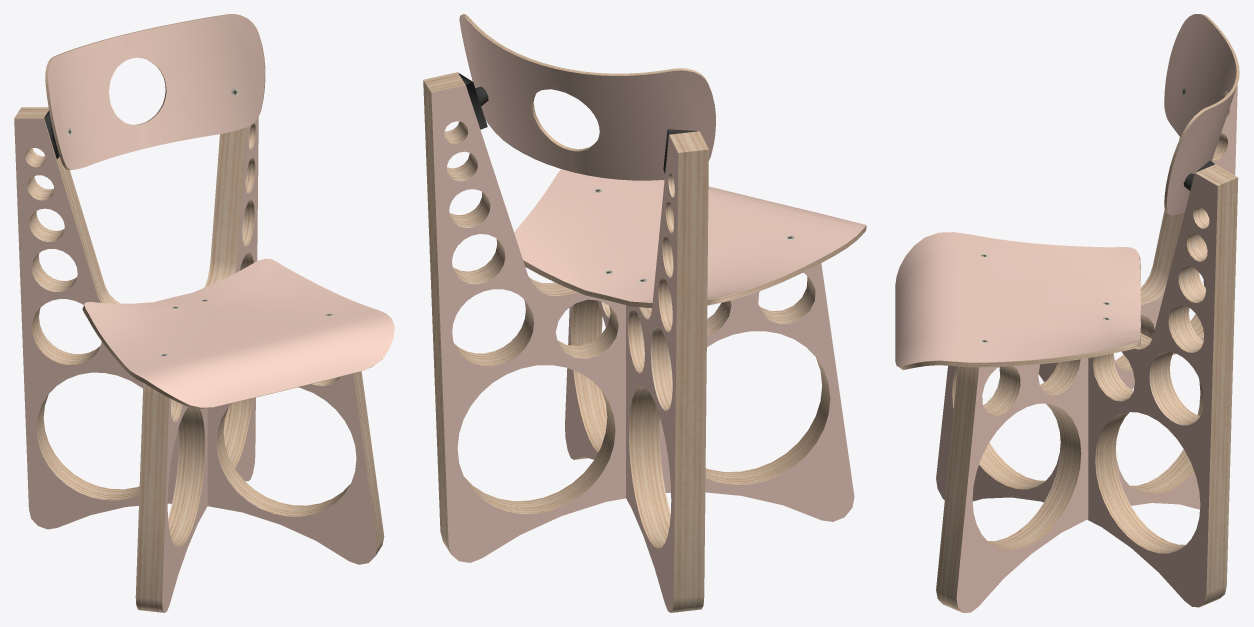
The model's file is 11_Shop Chair_Pink.glb.
3 renders of one model, left to right at view 1: azimuth 30°, elevation 25°; view 2: azimuth 150°, elevation 25°; view 3: azimuth 270°, elevation 25°, orthographic. The views are drawn at different scales.
Parts seen in each view (by area): view 1: ShopChair_Pink_baseMesh; view 2: ShopChair_Pink_baseMesh; view 3: ShopChair_Pink_baseMesh.
Boxes of the visible parts, left/top/right/bottom form: ShopChair_Pink_baseMesh: left=14, top=14, right=394, bottom=612; ShopChair_Pink_baseMesh: left=423, top=14, right=866, bottom=612; ShopChair_Pink_baseMesh: left=895, top=14, right=1239, bottom=612.
Bounding box in the file's own units: 0.4772 × 0.8462 × 0.5365.
2 materials, 2 textured.
